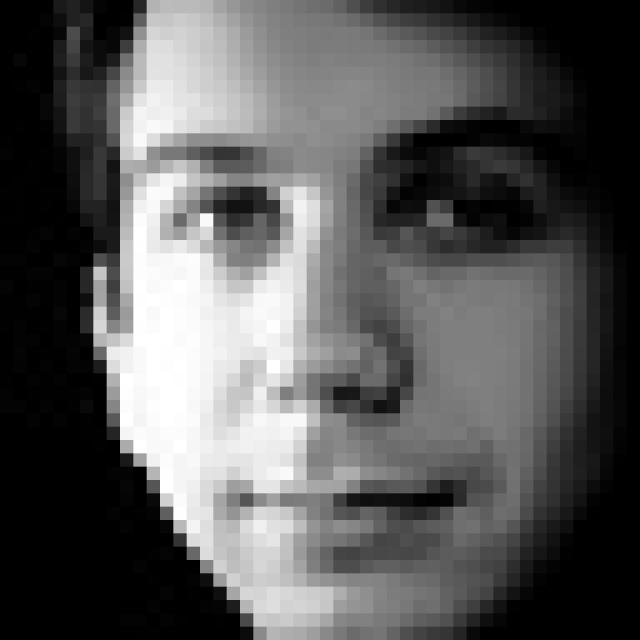neutral: (120, 110, 560, 574)
